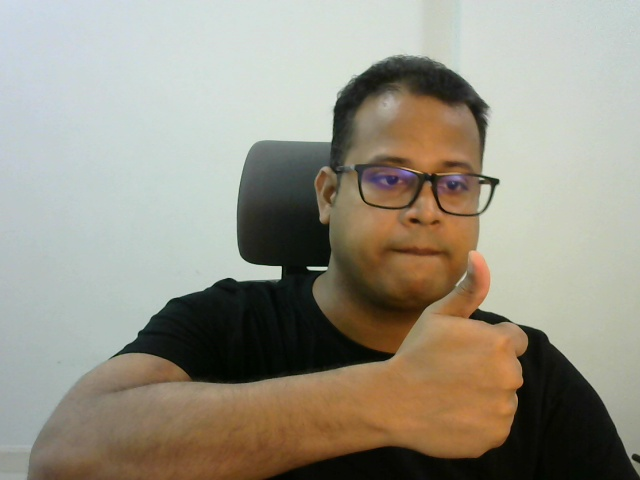ThumbsUp: (397, 250, 528, 460)
